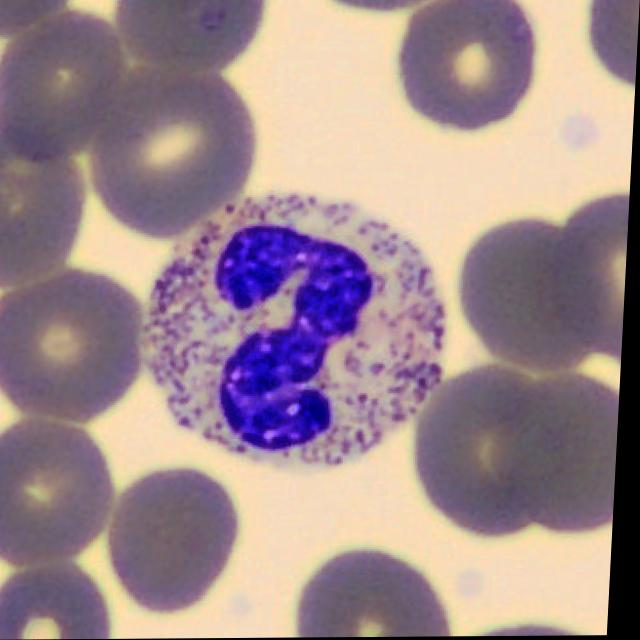Neutrofilo segmentado: (147, 195, 446, 464)
